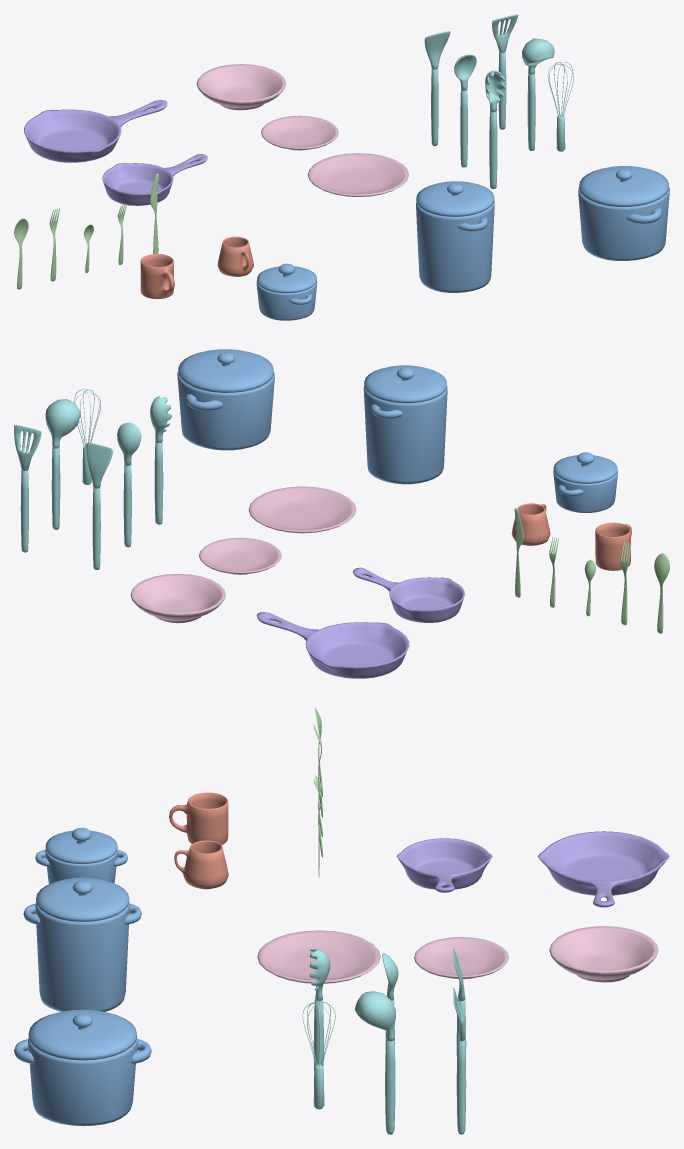
The model's file is KitchenProps.fbx.
The picture shows the model from 3 angles, top to bottom: view 1: azimuth 30°, elevation 25°; view 2: azimuth 150°, elevation 25°; view 3: azimuth 270°, elevation 25°; orthographic projection. The views are drawn at different scales.
Visible parts, largest first — view 1: Pot02, Pot03, CastIronPan01, DinnerPlate, SoupPlate, Lid03, CastIronPan02, Lid02, SmallPlate, Pot01, Cup02, Ladle01 (+8 smaller); view 2: Pot02, Pot03, CastIronPan01, DinnerPlate, SoupPlate, Lid03, CastIronPan02, Lid02, SmallPlate, Ladle01, Pot01, Lid01 (+9 smaller); view 3: Pot02, Pot03, CastIronPan01, DinnerPlate, SoupPlate, Lid03, CastIronPan02, Lid02, SmallPlate, Ladle01, Cup02, Lid01 (+5 smaller).
Boxes of the visible parts, x1,y1,x2,y2 form: Pot02: [416, 201, 494, 292]; Pot03: [578, 187, 669, 260]; CastIronPan01: [24, 100, 167, 162]; DinnerPlate: [307, 153, 408, 196]; SoupPlate: [196, 64, 285, 110]; Lid03: [579, 166, 668, 206]; CastIronPan02: [102, 154, 207, 205]; Lid02: [416, 181, 494, 216]; SmallPlate: [261, 115, 338, 150]; Pot01: [256, 281, 317, 320]; Cup02: [140, 253, 174, 299]; Ladle01: [522, 38, 554, 150]; Pot02: [363, 386, 447, 484]; Pot03: [177, 371, 274, 450]; CastIronPan01: [256, 612, 409, 678]; DinnerPlate: [248, 486, 356, 533]; SoupPlate: [130, 574, 225, 623]; Lid03: [178, 349, 273, 392]; CastIronPan02: [353, 567, 464, 622]; Lid02: [364, 365, 447, 403]; SmallPlate: [199, 537, 281, 574]; Ladle01: [45, 399, 80, 529]; Pot01: [553, 471, 617, 512]; Lid01: [553, 452, 617, 483]; Pot02: [23, 902, 141, 1011]; Pot03: [14, 1038, 151, 1126]; CastIronPan01: [538, 831, 669, 907]; DinnerPlate: [257, 930, 380, 983]; SoupPlate: [549, 926, 658, 982]; Lid03: [28, 1009, 136, 1060]; CastIronPan02: [396, 838, 492, 892]; Lid02: [36, 877, 129, 921]; SmallPlate: [414, 937, 508, 979]; Ladle01: [354, 991, 395, 1134]; Cup02: [169, 792, 228, 844]; Lid01: [45, 827, 117, 863].
Size of what is drawn, in the model's own units: 1.66 by 0.3354 by 1.38.
